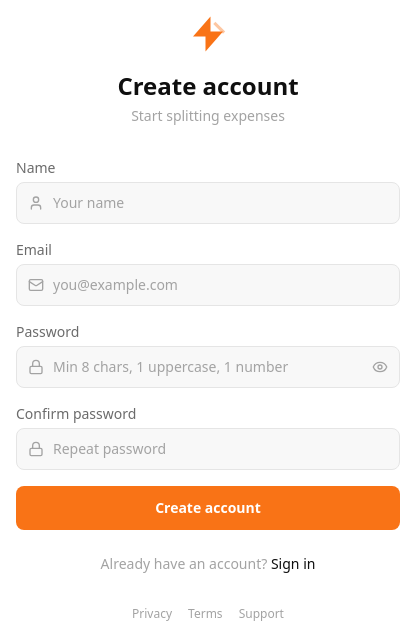
Test case: RegisterPage registration flow and confirmation UI › restores cooldown from sessionStorage preventing bypass via remounting
This screenshot has width=417, height=638.
Type "Jane Doe" into the field labelled "Name".
click(208, 203); type("Jane Doe")  # box [16,182,400,224]
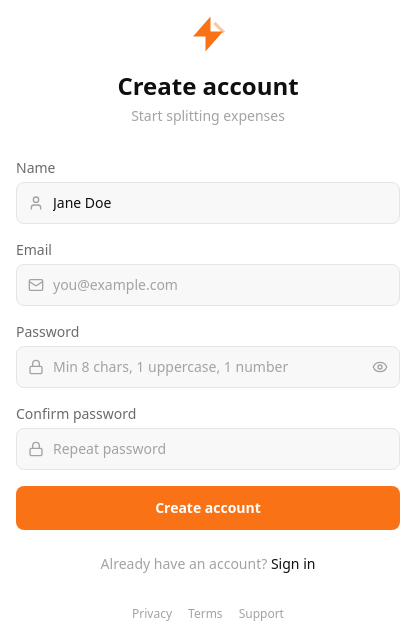
Type "jane@example.com" into the field labelled "Email".
click(208, 285); type("jane@example.com")  # box [16,264,400,306]
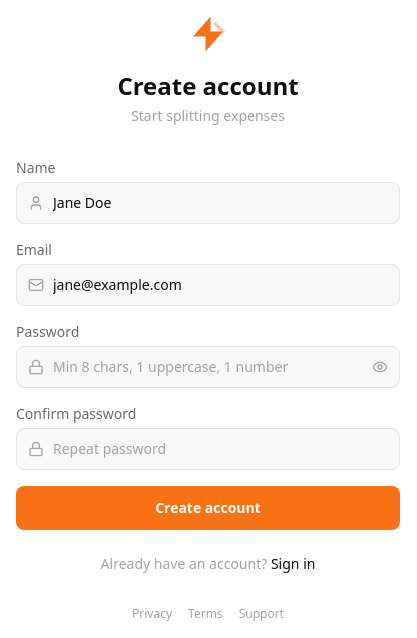
Type "Secret123" into the password field labelled "Password".
click(208, 367); type("Secret123")  # box [16,346,400,388]
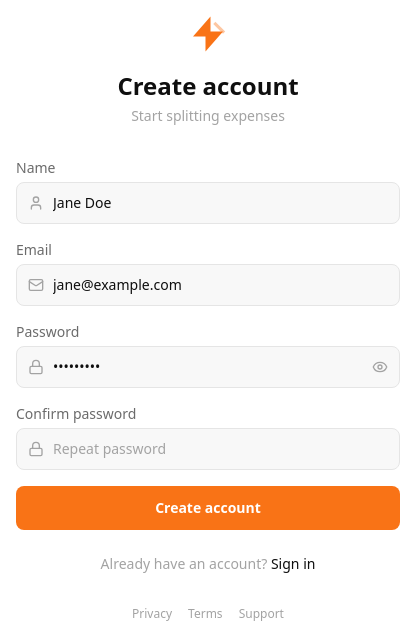
Type "Secret123" into the password field labelled "Confirm password".
click(208, 449); type("Secret123")  # box [16,428,400,470]
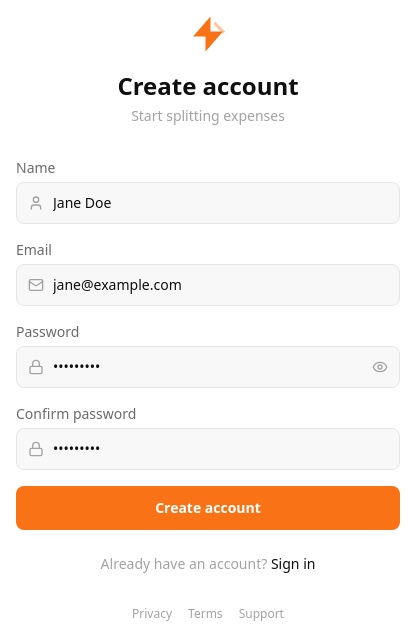
Click the button "Create account".
click(208, 508)  # box [16,486,400,530]
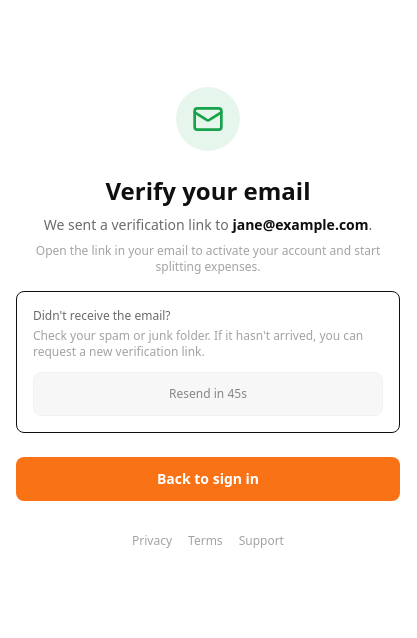
Now the text "Resend in 45s" is shown, box [169,386,247,402]
Now the button "Resend in 45s" is disabled, box [33,372,383,416]
